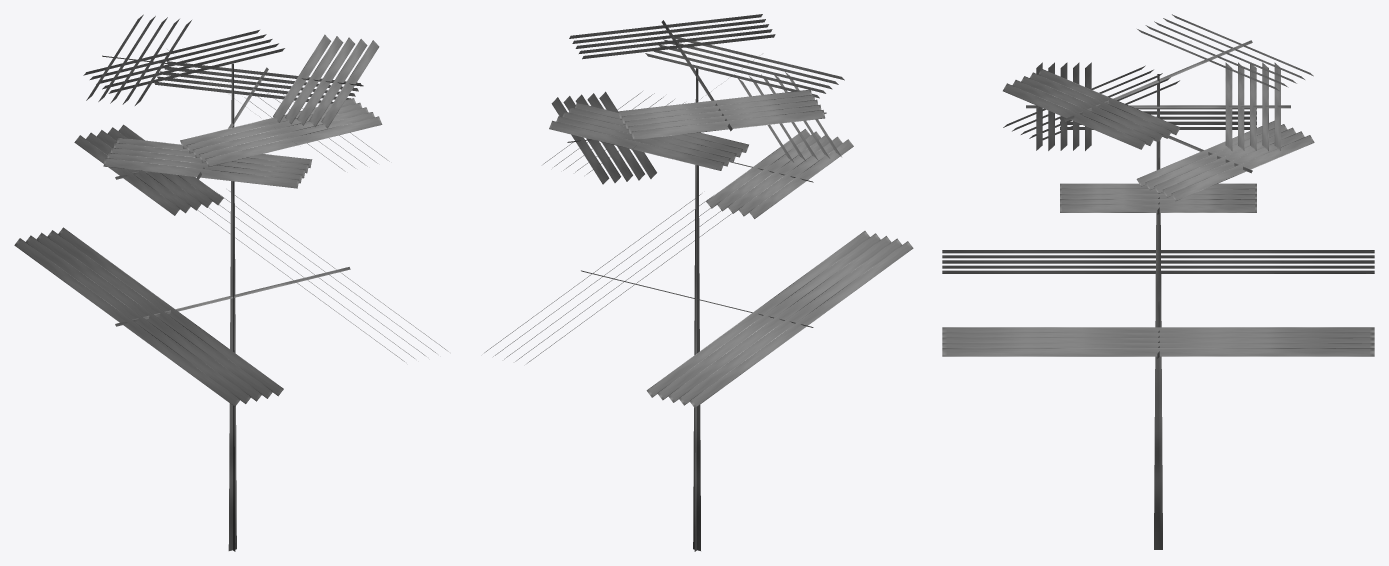
File: antenna_3.obj
3 views of the same model, side by side, from view 1: azimuth 30°, elevation 25°; view 2: azimuth 150°, elevation 25°; view 3: azimuth 270°, elevation 25° (orthographic). The views are drawn at different scales.
Visible parts, largest first — view 1: antenna_3; view 2: antenna_3; view 3: antenna_3.
Part boxes in pixels (x1,y1,x2,y2): antenna_3: (14, 14, 448, 551); antenna_3: (484, 14, 913, 551); antenna_3: (942, 14, 1374, 549).
Size of the model in its own units: 1.29 by 2.17 by 1.79.
1 material, 1 textured.
